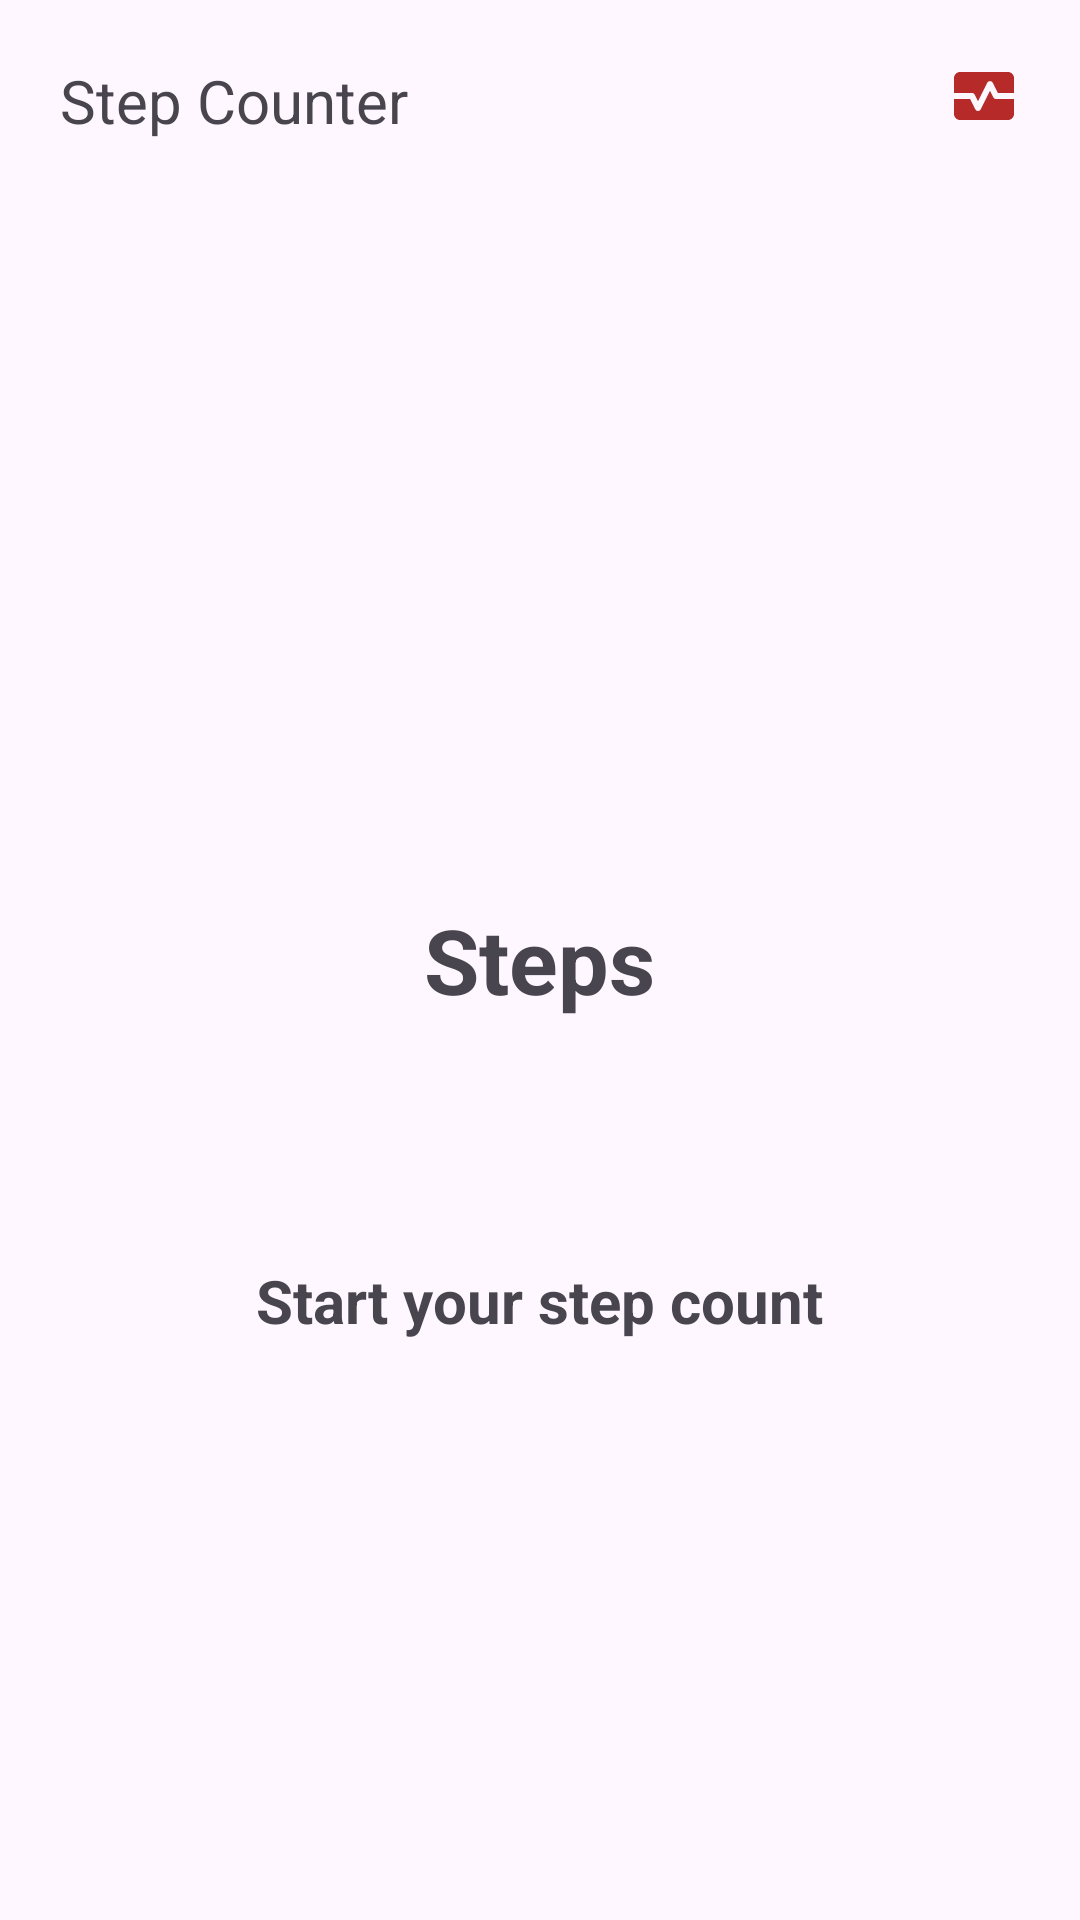

Where icons sit on this 1080px×1920px app screen, as [left=x1, top=y1, right=x2, bottom=y2]:
heart rate: [left=954, top=72, right=1014, bottom=120]
